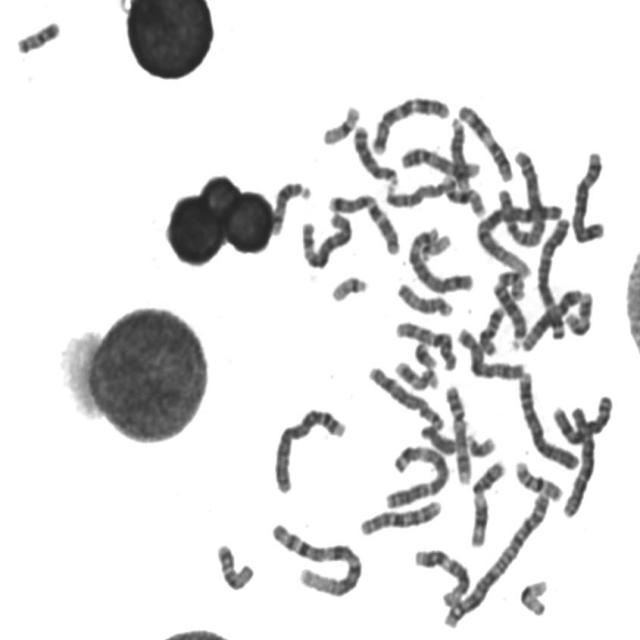A1: (267, 517, 365, 599), (474, 198, 564, 275)
A2: (438, 486, 554, 630), (497, 146, 546, 248)
A3: (534, 215, 573, 342), (381, 440, 451, 510)
B4: (270, 404, 348, 496), (514, 367, 580, 472)
B5: (404, 223, 476, 294), (567, 146, 608, 245)
C10: (356, 495, 444, 538), (392, 317, 458, 372)
C11: (455, 100, 514, 184), (467, 456, 508, 550)
C12: (517, 284, 587, 353), (410, 544, 472, 608)
C6: (555, 400, 598, 520), (298, 208, 354, 270)
C7: (324, 188, 402, 258), (368, 92, 452, 156)
C8: (364, 362, 446, 432), (548, 390, 614, 448)
C9: (397, 142, 481, 182), (442, 382, 474, 486)
D13: (350, 121, 401, 187), (489, 277, 528, 350)
D14: (267, 178, 312, 237), (445, 112, 472, 192)
D15: (382, 172, 457, 210), (393, 278, 456, 318)
E16: (511, 456, 565, 504), (440, 172, 487, 218)
E17: (390, 357, 440, 392), (562, 288, 594, 337)
E18: (212, 540, 256, 592), (476, 303, 506, 357)
F19: (318, 100, 362, 146), (516, 575, 550, 619)
F20: (13, 16, 63, 55), (493, 267, 526, 302)
G21: (465, 432, 498, 460), (411, 338, 438, 370)
G22: (327, 272, 370, 304), (417, 230, 454, 260)
X: (455, 323, 527, 383)
Y: (418, 421, 460, 456)
